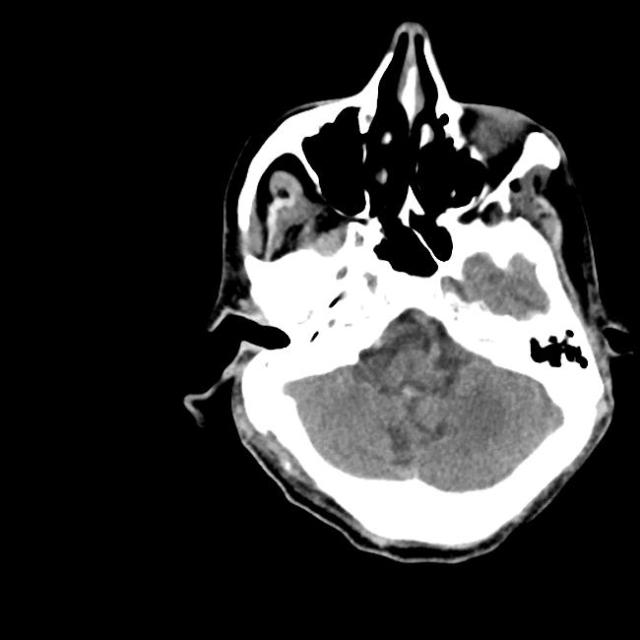lesion: (181, 21, 627, 566)
